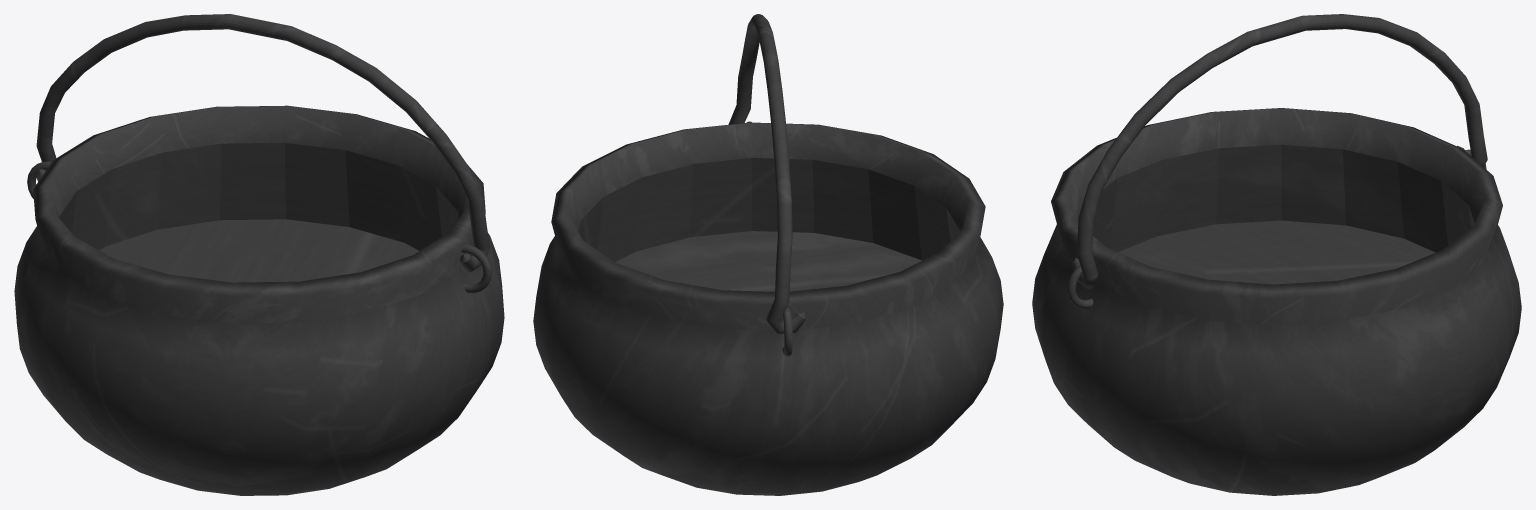
File: Cauldron.fbx
3 views of the same model, side by side, from view 1: azimuth 30°, elevation 25°; view 2: azimuth 150°, elevation 25°; view 3: azimuth 270°, elevation 25° (orthographic). The views are drawn at different scales.
Visible parts, largest first — view 1: Cauldron:Cauldron1; view 2: Cauldron:Cauldron1; view 3: Cauldron:Cauldron1.
Boxes of the visible parts, x1=… form: Cauldron:Cauldron1: x1=14, y1=14, x2=504, y2=495; Cauldron:Cauldron1: x1=533, y1=14, x2=1003, y2=495; Cauldron:Cauldron1: x1=1032, y1=14, x2=1521, y2=495.
Size of the model in its own units: 0.8397 by 0.8356 by 0.8397.
